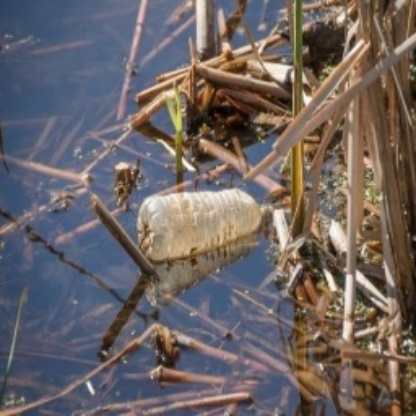bottle: (137, 186, 275, 256)
